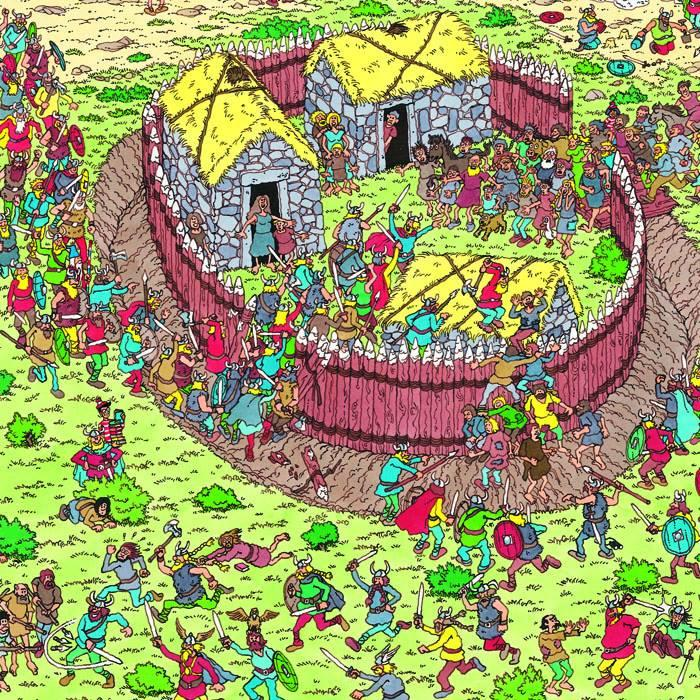waldo: (96, 398, 115, 440)
